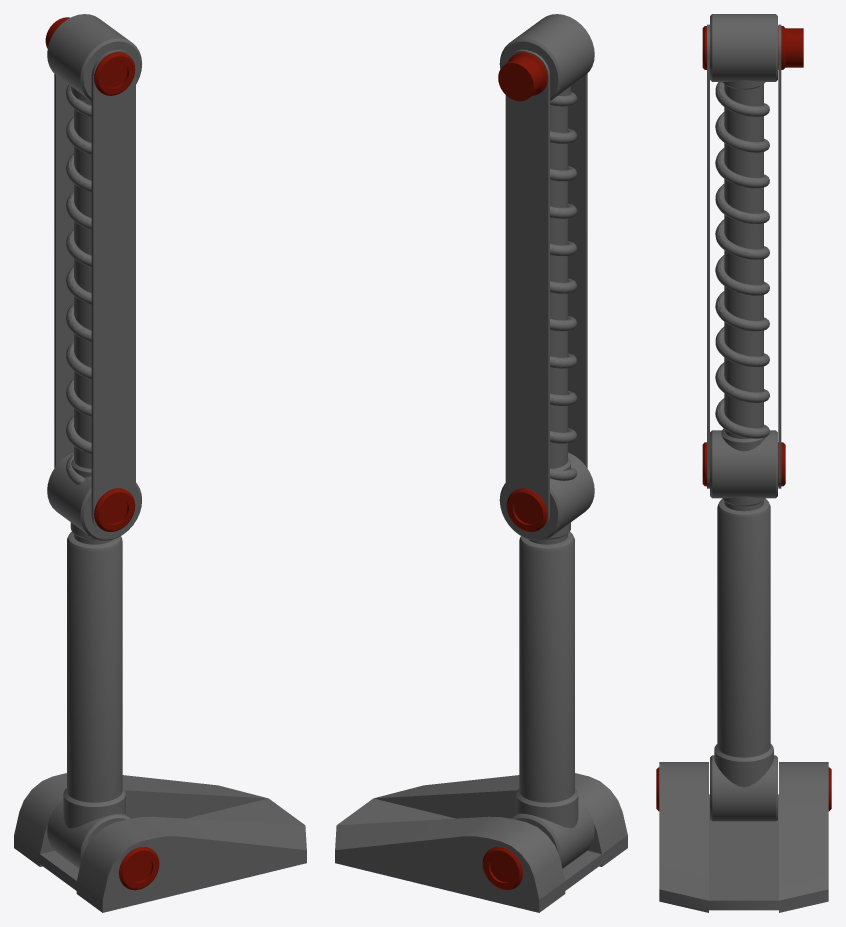
Rendered from PernaDir.fbx.
The picture shows the model from 3 angles, left to right: view 1: azimuth 30°, elevation 25°; view 2: azimuth 150°, elevation 25°; view 3: azimuth 270°, elevation 25°; orthographic projection. The views are drawn at different scales.
Visible parts, largest first — view 1: PernaDir_1; view 2: PernaDir_1; view 3: PernaDir_1.
Boxes of the visible parts, x1=… form: PernaDir_1: x1=14, y1=14, x2=306, y2=912; PernaDir_1: x1=335, y1=14, x2=627, y2=912; PernaDir_1: x1=656, y1=14, x2=831, y2=912.
Size of the model in its own units: 239 by 844 by 166.
